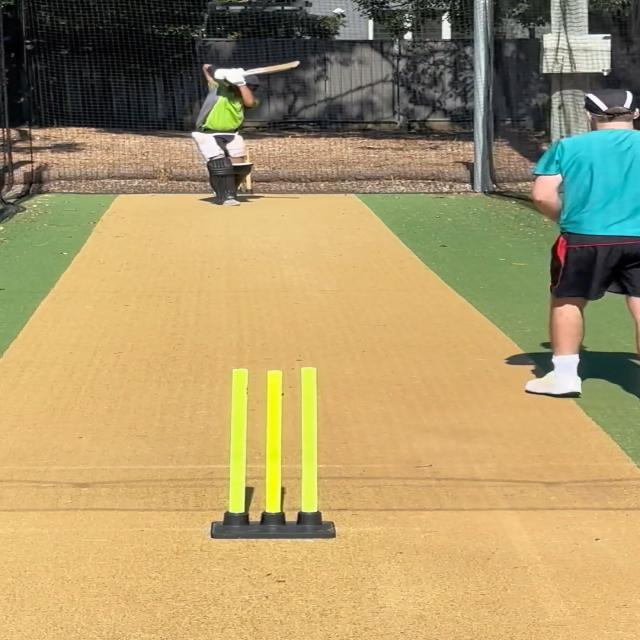stump: (209, 366, 335, 539)
